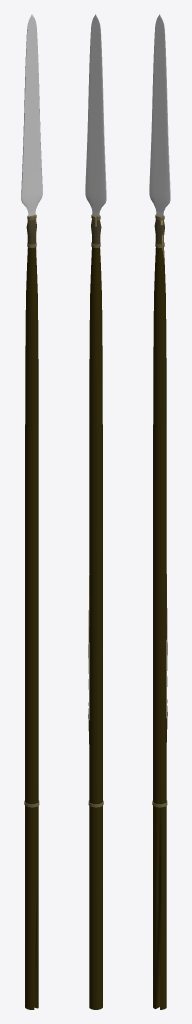
The model's file is Spear.fbx.
3 views of the same model, side by side, from view 1: azimuth 30°, elevation 25°; view 2: azimuth 150°, elevation 25°; view 3: azimuth 330°, elevation 25° (orthographic).
Parts seen in each view (by area): view 1: Cylinder001, Box001, Cylinder002, Box002; view 2: Cylinder001, Box001, Cylinder002, Box002, Cylinder003; view 3: Cylinder001, Box001, Cylinder002, Cylinder003, Box002.
Boxes of the visible parts, left/top/right/bottom form: Cylinder001: left=25, top=424, right=38, bottom=1009; Box001: left=21, top=14, right=42, bottom=216; Cylinder002: left=25, top=247, right=38, bottom=427; Box002: left=26, top=220, right=36, bottom=244; Cylinder001: left=88, top=424, right=102, bottom=1009; Box001: left=85, top=14, right=106, bottom=217; Cylinder002: left=89, top=247, right=102, bottom=427; Box002: left=91, top=219, right=101, bottom=244; Cylinder003: left=88, top=214, right=100, bottom=689; Cylinder001: left=153, top=424, right=167, bottom=1009; Box001: left=149, top=14, right=170, bottom=216; Cylinder002: left=153, top=247, right=166, bottom=427; Cylinder003: left=155, top=214, right=167, bottom=686; Box002: left=154, top=219, right=164, bottom=244.
Size of the model in its own units: 13.96 by 619 by 8.47.
